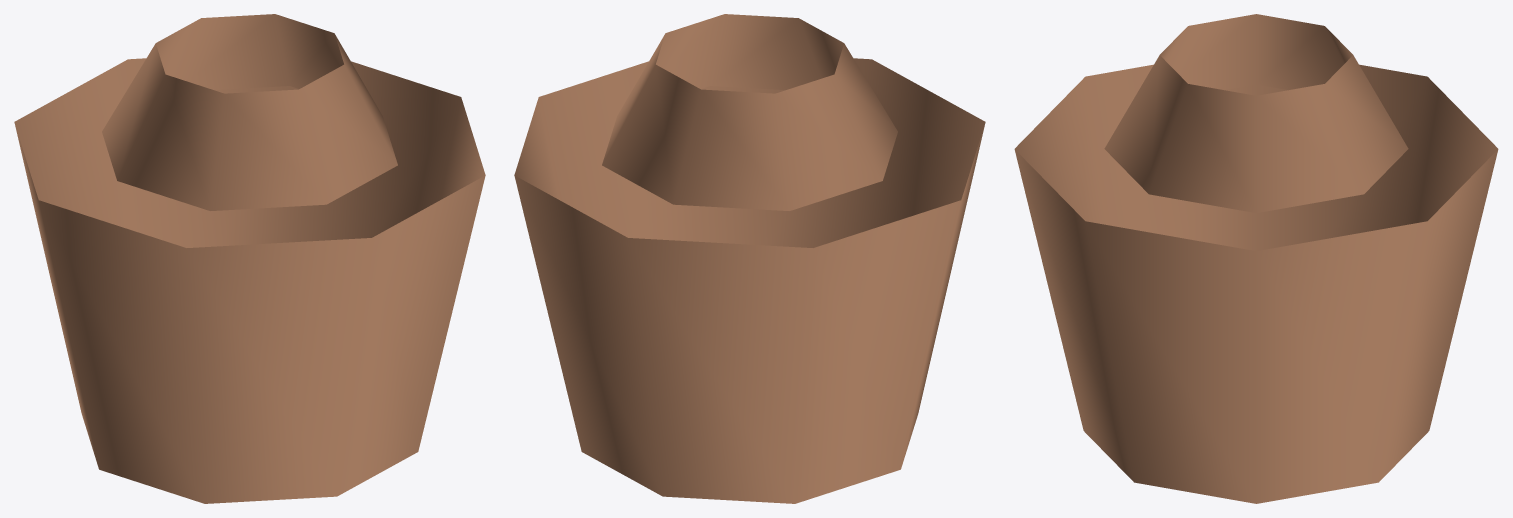
Rendered from clay_pot.glb.
The picture shows the model from 3 angles, left to right: view 1: azimuth 30°, elevation 25°; view 2: azimuth 150°, elevation 25°; view 3: azimuth 270°, elevation 25°; orthographic projection.
Visible parts, largest first — view 1: PotBelly_Node, PotNeck_Node; view 2: PotBelly_Node, PotNeck_Node; view 3: PotBelly_Node, PotNeck_Node.
Boxes of the visible parts, x1,y1,x2,y2 form: PotBelly_Node: [14, 58, 485, 503]; PotNeck_Node: [102, 14, 397, 210]; PotBelly_Node: [514, 58, 985, 503]; PotNeck_Node: [602, 14, 897, 210]; PotBelly_Node: [1014, 64, 1498, 503]; PotNeck_Node: [1104, 14, 1408, 212].
Size of the model in its own units: 0.7 by 0.6 by 0.7.
